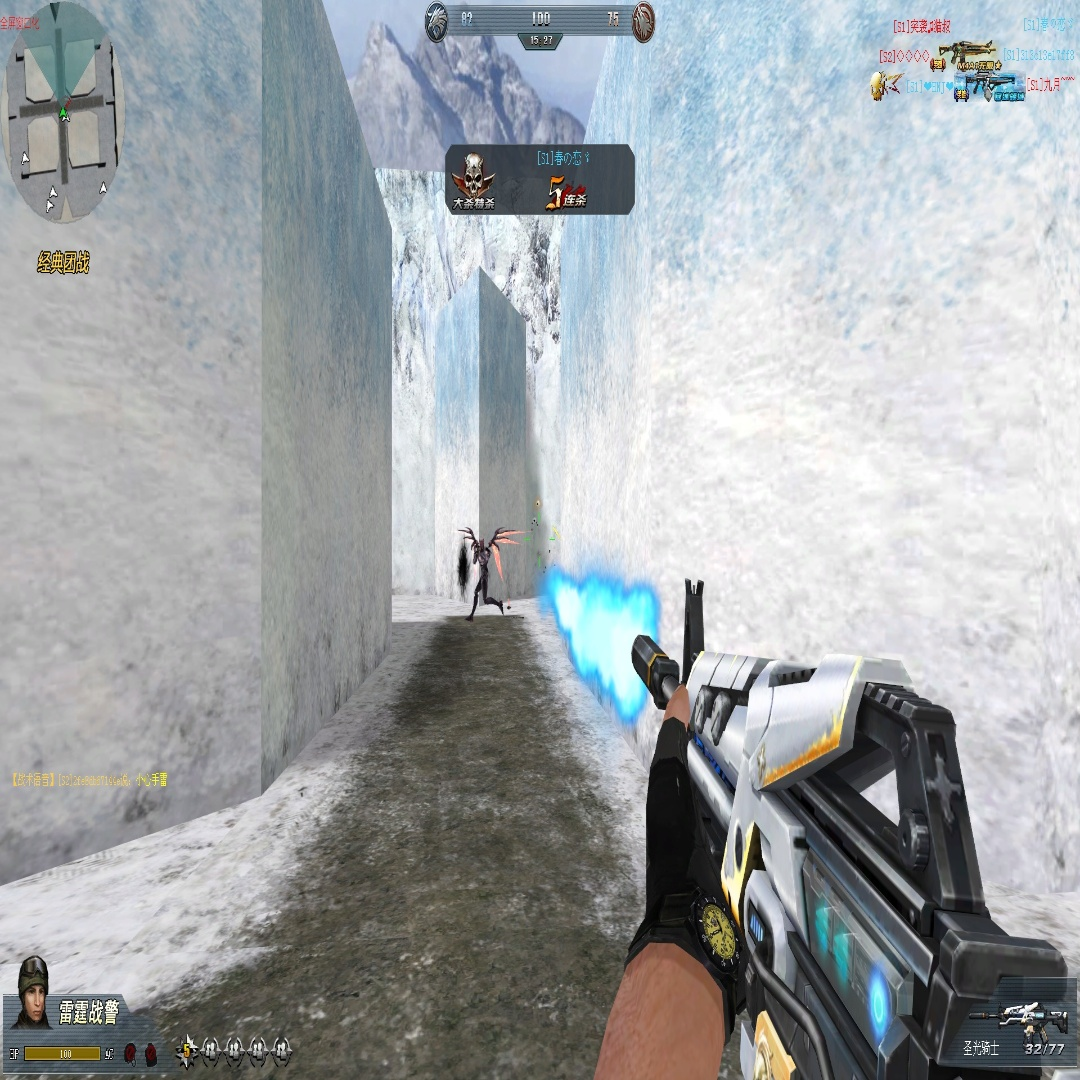head: (479, 536, 485, 550)
t: (472, 535, 502, 618)
